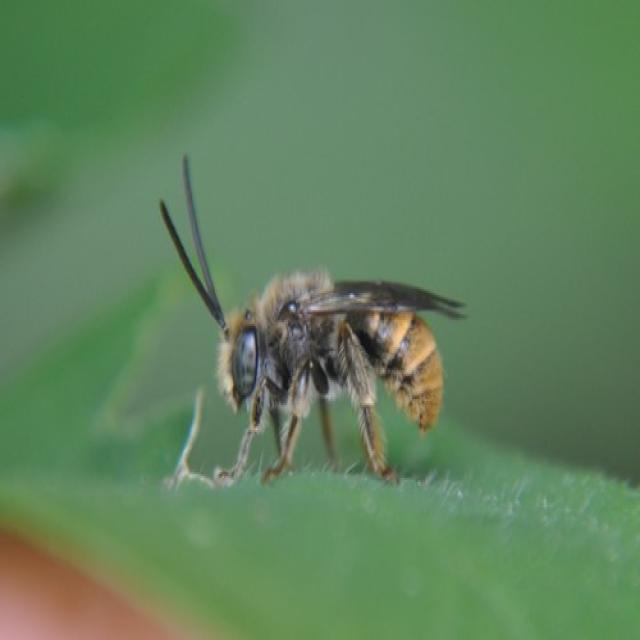bee: (157, 154, 470, 489)
